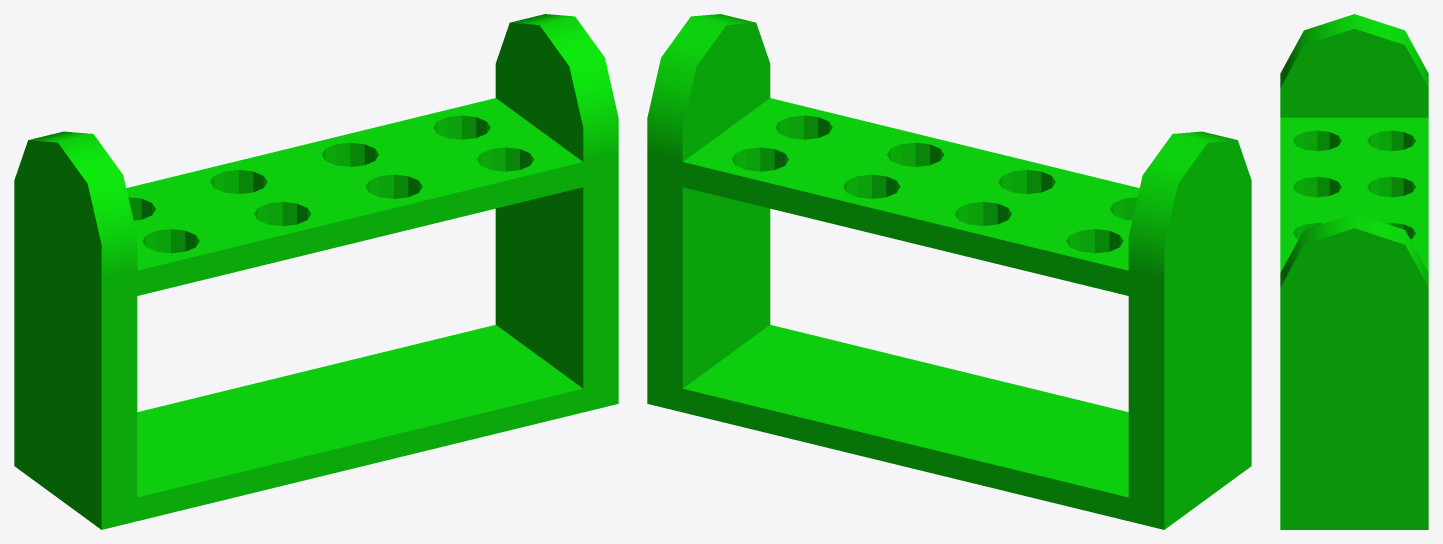
File: Mesh_Rack.fbx
3 views of the same model, side by side, from view 1: azimuth 30°, elevation 25°; view 2: azimuth 150°, elevation 25°; view 3: azimuth 270°, elevation 25° (orthographic). The views are drawn at different scales.
Visible parts, largest first — view 1: Rack; view 2: Rack; view 3: Rack.
Boxes of the visible parts, <box> form: Rack: <box>14,14,618,529</box>; Rack: <box>647,14,1251,529</box>; Rack: <box>1280,14,1428,529</box>.
Size of the model in its own units: 1291 by 847 by 378.
